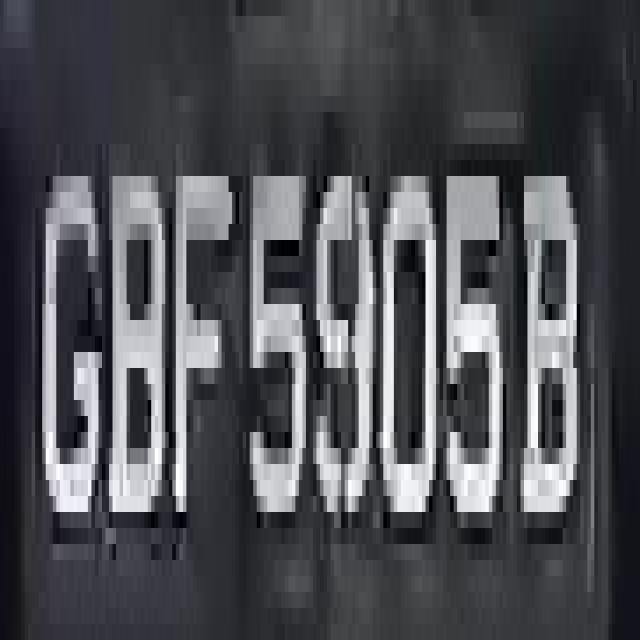0: (366, 128, 436, 560)
5: (439, 128, 510, 544), (243, 128, 306, 544)
9: (313, 112, 373, 544)
B: (98, 112, 166, 544), (520, 128, 584, 560)
F: (162, 144, 236, 528)
G: (32, 128, 98, 560)
